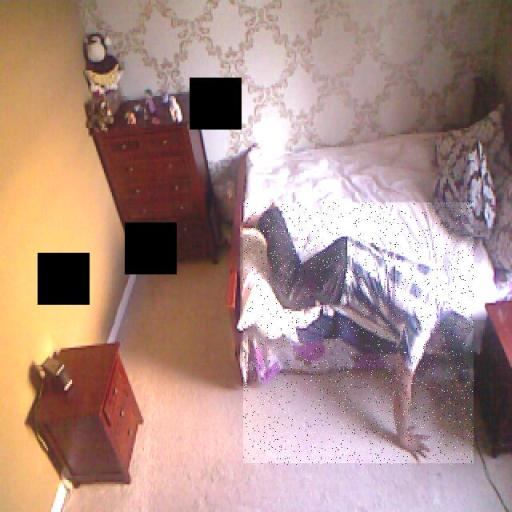Fall: (243, 203, 474, 466)
